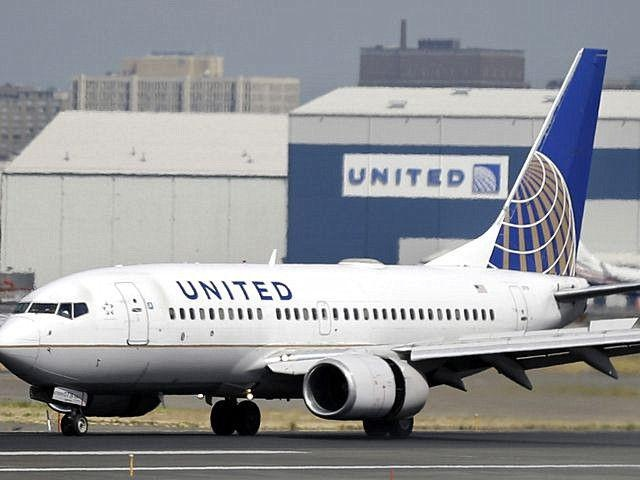airplane: (1, 45, 630, 439)
